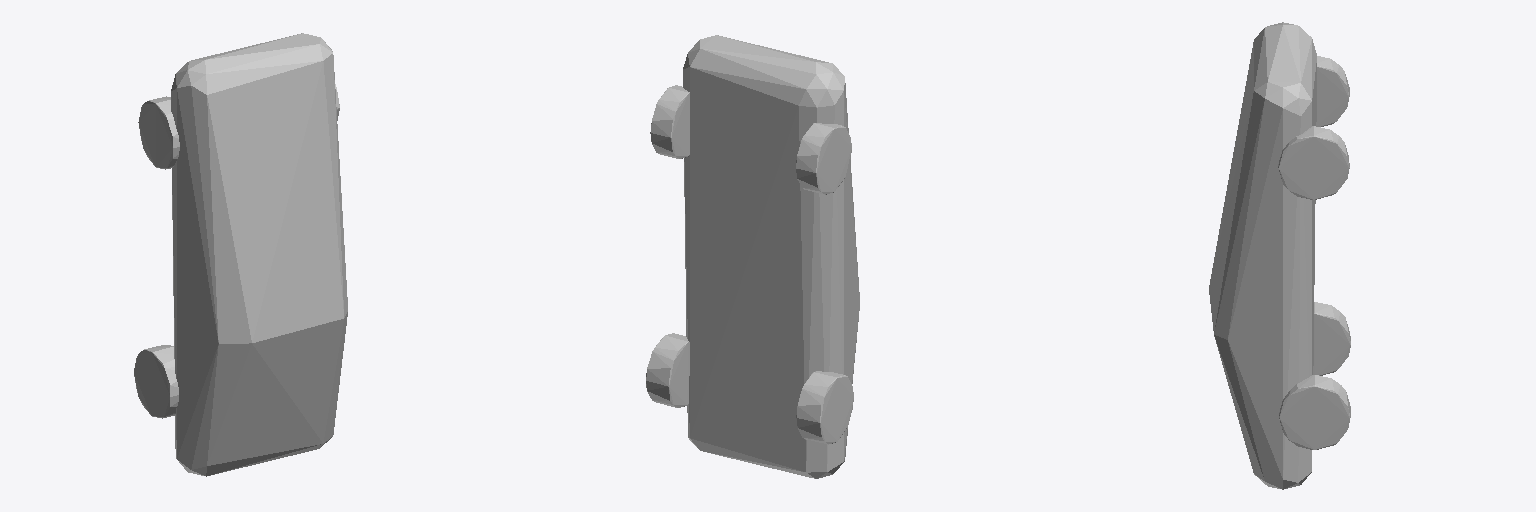
Rendered from vdrift.obj.
3 renders of one model, left to right at view 1: azimuth 30°, elevation 25°; view 2: azimuth 150°, elevation 25°; view 3: azimuth 270°, elevation 25°, orthographic.
Size of the model in its own units: 1.77 by 4 by 1.25.